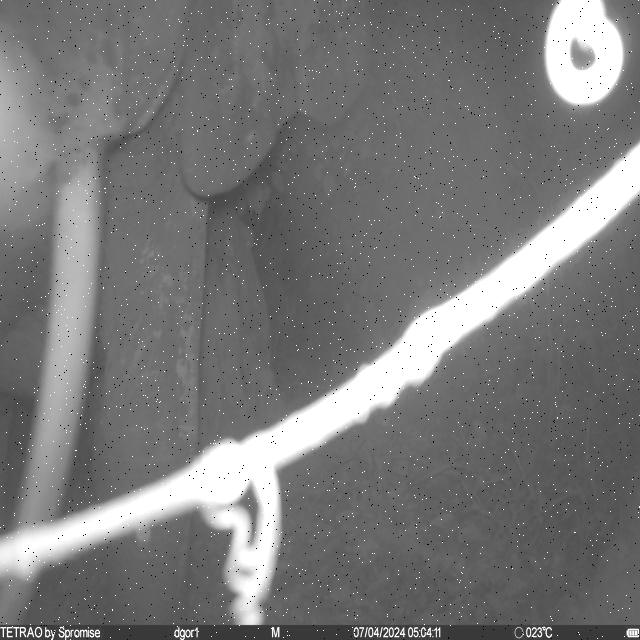ear: (178, 0, 402, 202)
elephant: (2, 0, 400, 626)
tusk: (2, 140, 108, 626)
